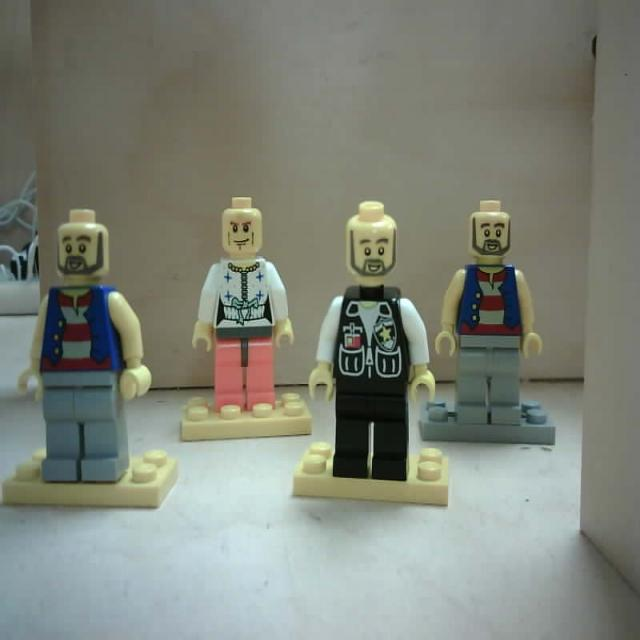Lego-People: (7, 200, 179, 512), (290, 202, 455, 512), (412, 198, 562, 447), (172, 200, 313, 447)
